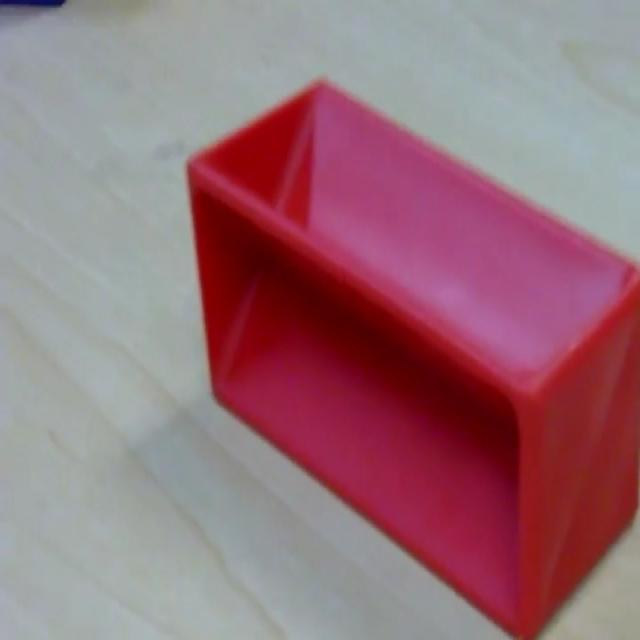red_block: (185, 75, 638, 636)
